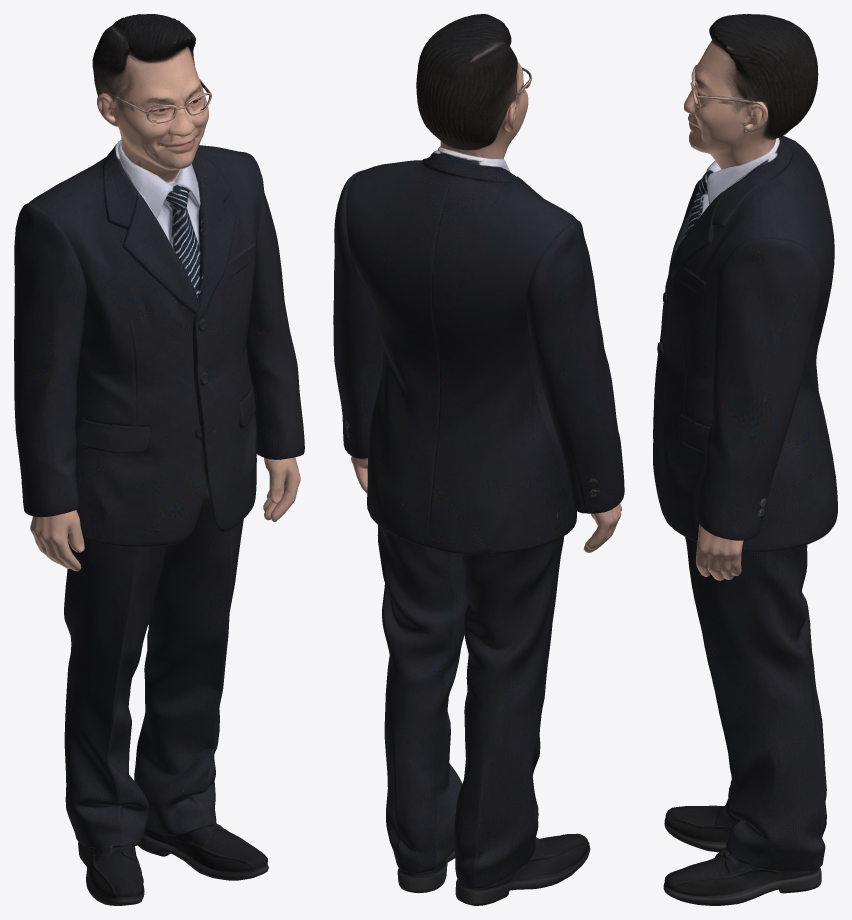
Rendered from tsai3d.glb.
The picture shows the model from 3 angles, left to right: view 1: azimuth 30°, elevation 25°; view 2: azimuth 150°, elevation 25°; view 3: azimuth 270°, elevation 25°; orthographic projection.
Size of the model in its own units: 0.6359 by 1.9 by 0.3736.
1 material, 1 textured.
